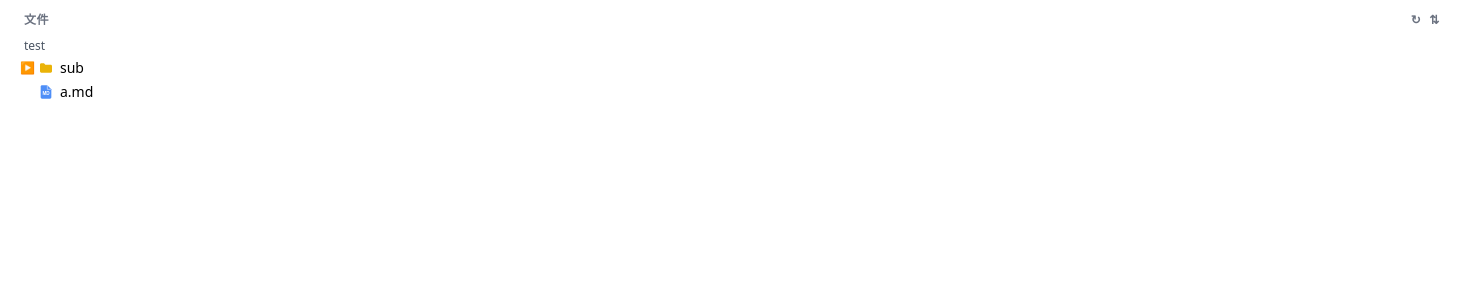
Test: FileTree › 右键菜单 › 右键文件应显示新建/重命名/删除/复制地址等菜单项
Right-click the text "a.md" at (77, 92), box [60,82,93,102]
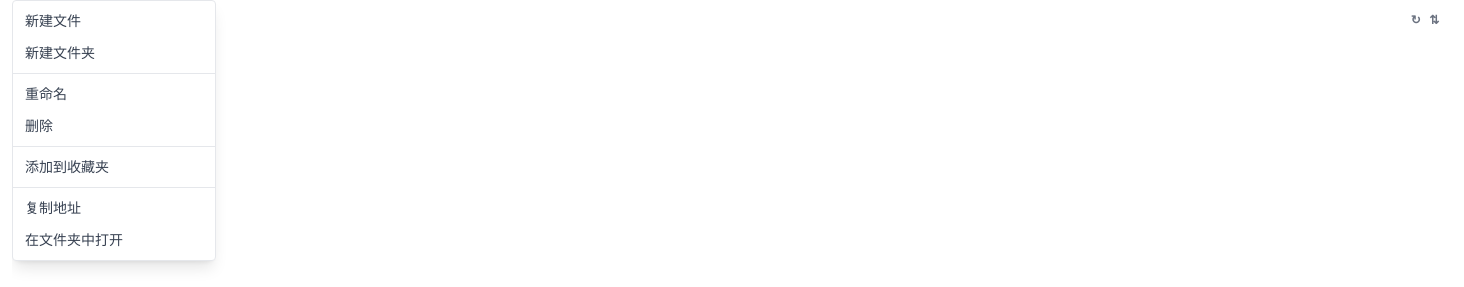
Now the menu item "新建文件" is shown, box [13,5,215,37]
Now the menu item "新建文件夹" is shown, box [13,37,215,69]
Now the menu item "重命名" is shown, box [13,78,215,110]
